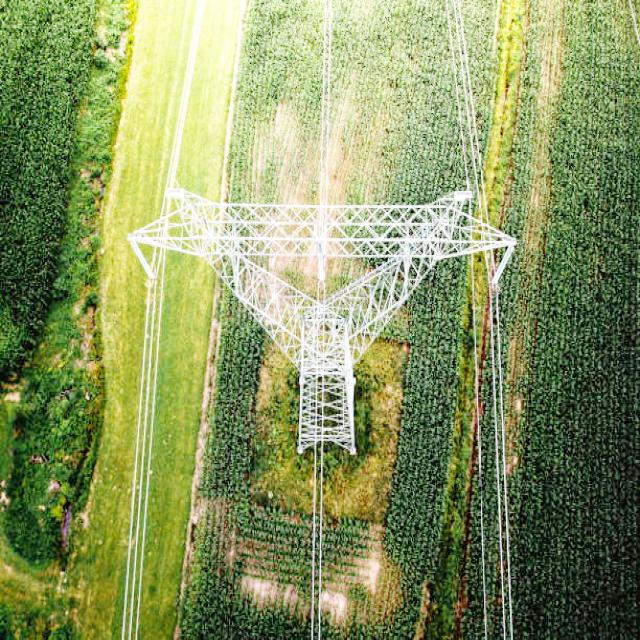poles: (133, 192, 513, 456)
wires: (121, 289, 155, 639), (450, 0, 497, 222), (482, 280, 511, 639), (166, 1, 205, 195), (312, 453, 328, 639), (323, 0, 336, 209)
